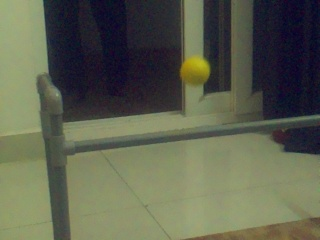ball: (180, 56, 210, 85)
